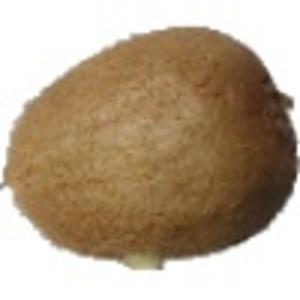kiwi: (1, 24, 300, 274)
